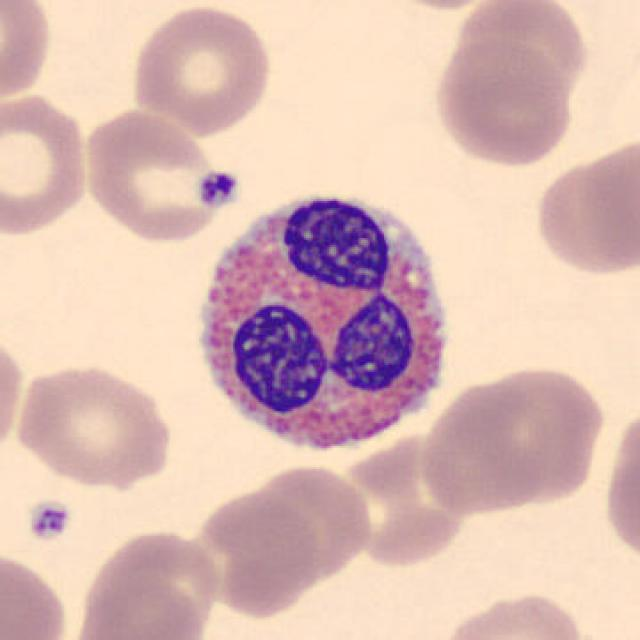Eosinophil: (182, 169, 468, 471)
Platelets: (23, 497, 73, 545), (194, 167, 242, 210)
RBC: (414, 360, 610, 518), (12, 360, 176, 490), (78, 106, 228, 245), (126, 2, 278, 138), (430, 36, 578, 170), (186, 486, 322, 618), (235, 460, 377, 584), (71, 526, 224, 638), (348, 431, 466, 575), (444, 0, 593, 109), (530, 134, 640, 280), (0, 88, 94, 240), (436, 587, 590, 640), (599, 395, 640, 575), (0, 546, 71, 640), (0, 0, 55, 106), (0, 326, 28, 463), (366, 0, 512, 12)
